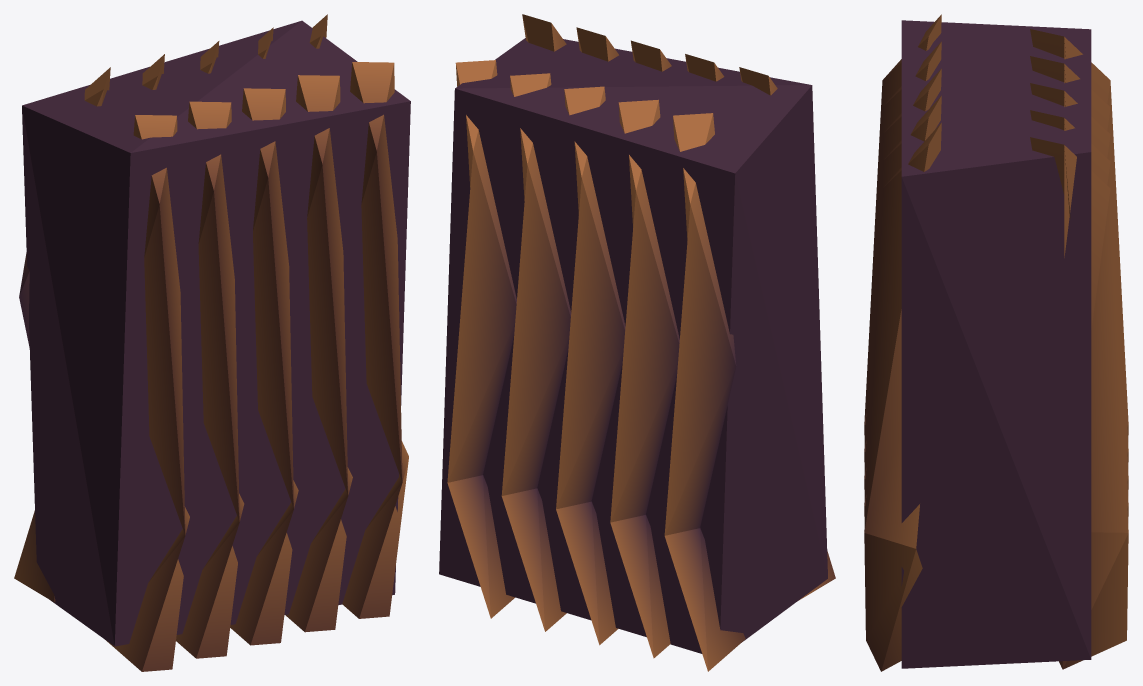
Rendered from grove_root_wall-lod1.glb.
3 renders of one model, left to right at view 1: azimuth 30°, elevation 25°; view 2: azimuth 150°, elevation 25°; view 3: azimuth 270°, elevation 25°, orthographic. The views are drawn at different scales.
Parts seen in each view (by area): view 1: grove_root_wall; view 2: grove_root_wall; view 3: grove_root_wall.
Part boxes in pixels (x1,y1,x2,y2): grove_root_wall: [14, 14, 410, 671]; grove_root_wall: [439, 14, 835, 671]; grove_root_wall: [864, 14, 1128, 671].
Size of the model in its own units: 3.07 by 5.18 by 2.27.
